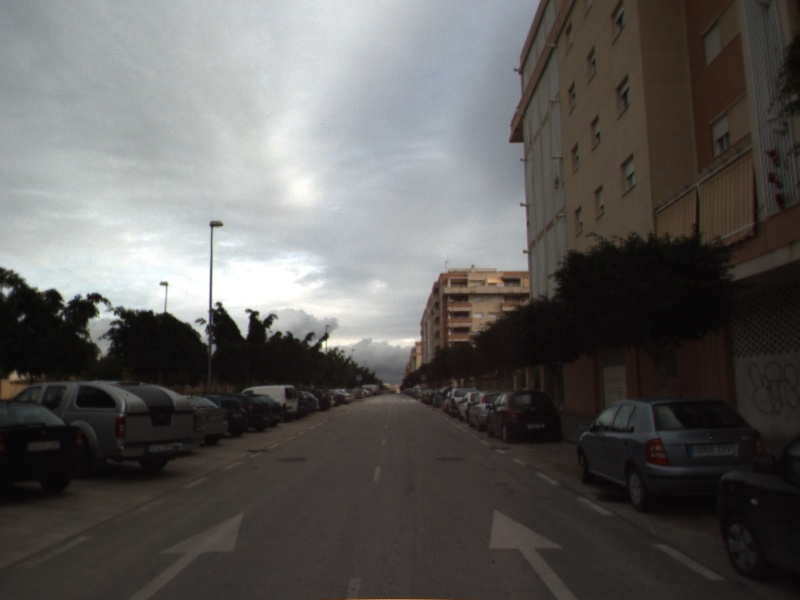STRAIGHT: (126, 510, 245, 600), (487, 507, 581, 600)
